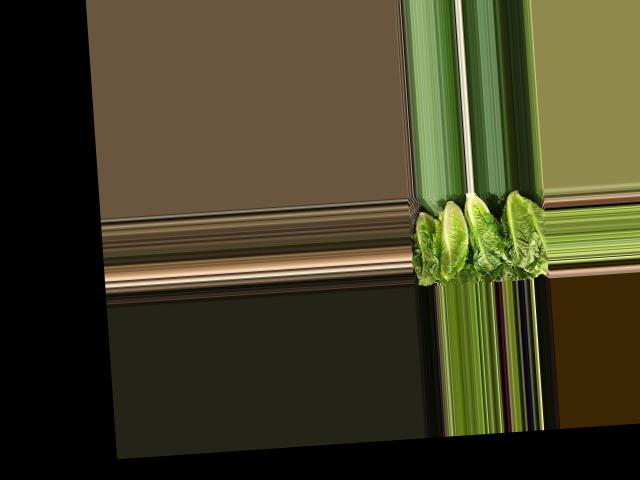lettuce: (414, 213, 441, 286)
